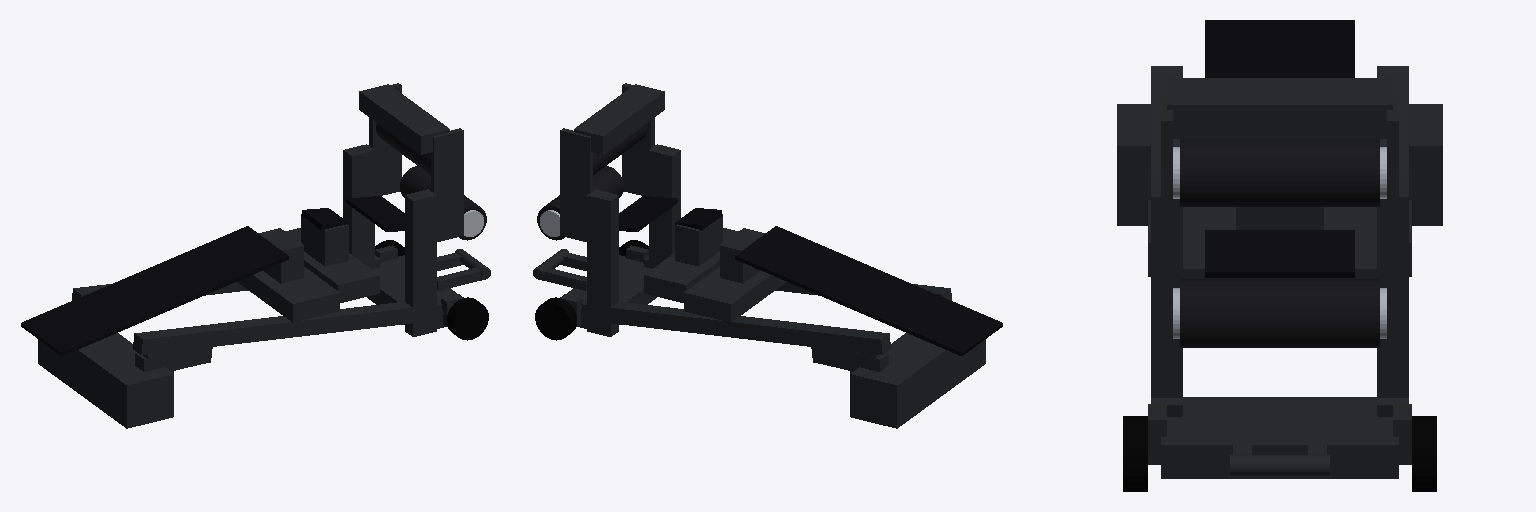
The robot description file, URDF, robot "decline_bench":
<robot name="decline_bench">
  <material name="powder_coat">
    <color rgba="0.18 0.19 0.2 1" />
    </material>
  <material name="upholstery">
    <color rgba="0.1 0.1 0.11 1" />
    </material>
  <material name="backer">
    <color rgba="0.08 0.08 0.09 1" />
    </material>
  <material name="steel">
    <color rgba="0.7 0.72 0.75 1" />
    </material>
  <material name="rubber">
    <color rgba="0.05 0.05 0.05 1" />
    </material>
  <material name="foam">
    <color rgba="0.13 0.13 0.14 1" />
    </material>
  <link name="frame">
    <visual name="rear_foot">
      <origin xyz="-0.56 0 0.07" rpy="0 0 0" />
      <geometry>
        <box size="0.16 0.52 0.14" />
        </geometry>
      <material name="powder_coat">
        <color rgba="0.18 0.19 0.2 1" />
        </material>
      </visual>
    <visual name="rear_riser_0">
      <origin xyz="-0.5 0.18 0.12" rpy="0 0 0" />
      <geometry>
        <box size="0.1 0.05 0.12" />
        </geometry>
      <material name="powder_coat">
        <color rgba="0.18 0.19 0.2 1" />
        </material>
      </visual>
    <visual name="rear_riser_1">
      <origin xyz="-0.5 -0.18 0.12" rpy="0 0 0" />
      <geometry>
        <box size="0.1 0.05 0.12" />
        </geometry>
      <material name="powder_coat">
        <color rgba="0.18 0.19 0.2 1" />
        </material>
      </visual>
    <visual name="rail_0">
      <origin xyz="-0.05 0.18 0.16" rpy="0 0.12 0" />
      <geometry>
        <box size="1.02 0.05 0.05" />
        </geometry>
      <material name="powder_coat">
        <color rgba="0.18 0.19 0.2 1" />
        </material>
      </visual>
    <visual name="rail_1">
      <origin xyz="-0.05 -0.18 0.16" rpy="0 0.12 0" />
      <geometry>
        <box size="1.02 0.05 0.05" />
        </geometry>
      <material name="powder_coat">
        <color rgba="0.18 0.19 0.2 1" />
        </material>
      </visual>
    <visual name="rear_brace_0">
      <origin xyz="-0.43 0.18 0.155" rpy="0 0.12 0" />
      <geometry>
        <box size="0.22 0.05 0.05" />
        </geometry>
      <material name="powder_coat">
        <color rgba="0.18 0.19 0.2 1" />
        </material>
      </visual>
    <visual name="rear_brace_1">
      <origin xyz="-0.43 -0.18 0.155" rpy="0 0.12 0" />
      <geometry>
        <box size="0.22 0.05 0.05" />
        </geometry>
      <material name="powder_coat">
        <color rgba="0.18 0.19 0.2 1" />
        </material>
      </visual>
    <visual name="rear_gusset_0">
      <origin xyz="-0.4 0.18 0.17" rpy="0 0 0" />
      <geometry>
        <box size="0.12 0.05 0.1" />
        </geometry>
      <material name="powder_coat">
        <color rgba="0.18 0.19 0.2 1" />
        </material>
      </visual>
    <visual name="rear_gusset_1">
      <origin xyz="-0.4 -0.18 0.17" rpy="0 0 0" />
      <geometry>
        <box size="0.12 0.05 0.1" />
        </geometry>
      <material name="powder_coat">
        <color rgba="0.18 0.19 0.2 1" />
        </material>
      </visual>
    <visual name="back_bridge">
      <origin xyz="0.03 0 0.215" rpy="0 0 0" />
      <geometry>
        <box size="0.16 0.42 0.06" />
        </geometry>
      <material name="powder_coat">
        <color rgba="0.18 0.19 0.2 1" />
        </material>
      </visual>
    <visual name="back_support">
      <origin xyz="0.03 0 0.29" rpy="0 0 0" />
      <geometry>
        <box size="0.08 0.14 0.12" />
        </geometry>
      <material name="powder_coat">
        <color rgba="0.18 0.19 0.2 1" />
        </material>
      </visual>
    <visual name="seat_bridge">
      <origin xyz="0.18 0 0.235" rpy="0 0 0" />
      <geometry>
        <box size="0.14 0.4 0.06" />
        </geometry>
      <material name="powder_coat">
        <color rgba="0.18 0.19 0.2 1" />
        </material>
      </visual>
    <visual name="seat_support">
      <origin xyz="0.18 0 0.32" rpy="0 0 0" />
      <geometry>
        <box size="0.08 0.14 0.12" />
        </geometry>
      <material name="powder_coat">
        <color rgba="0.18 0.19 0.2 1" />
        </material>
      </visual>
    <visual name="front_base">
      <origin xyz="0.47 0 0.07" rpy="0 0 0" />
      <geometry>
        <box size="0.18 0.38 0.06" />
        </geometry>
      <material name="powder_coat">
        <color rgba="0.18 0.19 0.2 1" />
        </material>
      </visual>
    <visual name="upright_0">
      <origin xyz="0.4 0.18 0.26" rpy="0 0 0" />
      <geometry>
        <box size="0.08 0.05 0.44" />
        </geometry>
      <material name="powder_coat">
        <color rgba="0.18 0.19 0.2 1" />
        </material>
      </visual>
    <visual name="upright_1">
      <origin xyz="0.4 -0.18 0.26" rpy="0 0 0" />
      <geometry>
        <box size="0.08 0.05 0.44" />
        </geometry>
      <material name="powder_coat">
        <color rgba="0.18 0.19 0.2 1" />
        </material>
      </visual>
    <visual name="roller_yoke">
      <origin xyz="0.45 0 0.64" rpy="0 0 0" />
      <geometry>
        <box size="0.1 0.36 0.06" />
        </geometry>
      <material name="powder_coat">
        <color rgba="0.18 0.19 0.2 1" />
        </material>
      </visual>
    <visual name="roller_cheek_0">
      <origin xyz="0.49 0.18 0.49" rpy="0 0 0" />
      <geometry>
        <box size="0.1 0.02 0.34" />
        </geometry>
      <material name="powder_coat">
        <color rgba="0.18 0.19 0.2 1" />
        </material>
      </visual>
    <visual name="roller_cheek_1">
      <origin xyz="0.49 -0.18 0.49" rpy="0 0 0" />
      <geometry>
        <box size="0.1 0.02 0.34" />
        </geometry>
      <material name="powder_coat">
        <color rgba="0.18 0.19 0.2 1" />
        </material>
      </visual>
    <visual name="handle_stem_0">
      <origin xyz="0.6 0.06 0.115" rpy="0 0 0" />
      <geometry>
        <box size="0.16 0.03 0.03" />
        </geometry>
      <material name="powder_coat">
        <color rgba="0.18 0.19 0.2 1" />
        </material>
      </visual>
    <visual name="handle_stem_1">
      <origin xyz="0.6 -0.06 0.115" rpy="0 0 0" />
      <geometry>
        <box size="0.16 0.03 0.03" />
        </geometry>
      <material name="powder_coat">
        <color rgba="0.18 0.19 0.2 1" />
        </material>
      </visual>
    <visual name="handle_grip">
      <origin xyz="0.68 0 0.12" rpy="1.5708 0 0" />
      <geometry>
        <cylinder radius="0.017" length="0.16" />
        </geometry>
      <material name="powder_coat">
        <color rgba="0.18 0.19 0.2 1" />
        </material>
      </visual>
    <visual name="wheel_bracket_0">
      <origin xyz="0.5 0.195 0.09" rpy="0 0 0" />
      <geometry>
        <box size="0.06 0.03 0.08" />
        </geometry>
      <material name="powder_coat">
        <color rgba="0.18 0.19 0.2 1" />
        </material>
      </visual>
    <visual name="wheel_bracket_1">
      <origin xyz="0.5 -0.195 0.09" rpy="0 0 0" />
      <geometry>
        <box size="0.06 0.03 0.08" />
        </geometry>
      <material name="powder_coat">
        <color rgba="0.18 0.19 0.2 1" />
        </material>
      </visual>
    <collision name="rear_foot">
      <origin xyz="-0.56 0 0.07" rpy="0 0 0" />
      <geometry>
        <box size="0.16 0.52 0.14" />
        </geometry>
      </collision>
    <collision name="rear_riser_0">
      <origin xyz="-0.5 0.18 0.12" rpy="0 0 0" />
      <geometry>
        <box size="0.1 0.05 0.12" />
        </geometry>
      </collision>
    <collision name="rear_riser_1">
      <origin xyz="-0.5 -0.18 0.12" rpy="0 0 0" />
      <geometry>
        <box size="0.1 0.05 0.12" />
        </geometry>
      </collision>
    <collision name="rail_0">
      <origin xyz="-0.05 0.18 0.16" rpy="0 0.12 0" />
      <geometry>
        <box size="1.02 0.05 0.05" />
        </geometry>
      </collision>
    <collision name="rail_1">
      <origin xyz="-0.05 -0.18 0.16" rpy="0 0.12 0" />
      <geometry>
        <box size="1.02 0.05 0.05" />
        </geometry>
      </collision>
    <collision name="rear_brace_0">
      <origin xyz="-0.43 0.18 0.155" rpy="0 0.12 0" />
      <geometry>
        <box size="0.22 0.05 0.05" />
        </geometry>
      </collision>
    <collision name="rear_brace_1">
      <origin xyz="-0.43 -0.18 0.155" rpy="0 0.12 0" />
      <geometry>
        <box size="0.22 0.05 0.05" />
        </geometry>
      </collision>
    <collision name="rear_gusset_0">
      <origin xyz="-0.4 0.18 0.17" rpy="0 0 0" />
      <geometry>
        <box size="0.12 0.05 0.1" />
        </geometry>
      </collision>
    <collision name="rear_gusset_1">
      <origin xyz="-0.4 -0.18 0.17" rpy="0 0 0" />
      <geometry>
        <box size="0.12 0.05 0.1" />
        </geometry>
      </collision>
    <collision name="back_bridge">
      <origin xyz="0.03 0 0.215" rpy="0 0 0" />
      <geometry>
        <box size="0.16 0.42 0.06" />
        </geometry>
      </collision>
    <collision name="back_support">
      <origin xyz="0.03 0 0.29" rpy="0 0 0" />
      <geometry>
        <box size="0.08 0.14 0.12" />
        </geometry>
      </collision>
    <collision name="seat_bridge">
      <origin xyz="0.18 0 0.235" rpy="0 0 0" />
      <geometry>
        <box size="0.14 0.4 0.06" />
        </geometry>
      </collision>
    <collision name="seat_support">
      <origin xyz="0.18 0 0.32" rpy="0 0 0" />
      <geometry>
        <box size="0.08 0.14 0.12" />
        </geometry>
      </collision>
    <collision name="front_base">
      <origin xyz="0.47 0 0.07" rpy="0 0 0" />
      <geometry>
        <box size="0.18 0.38 0.06" />
        </geometry>
      </collision>
    <collision name="upright_0">
      <origin xyz="0.4 0.18 0.26" rpy="0 0 0" />
      <geometry>
        <box size="0.08 0.05 0.44" />
        </geometry>
      </collision>
    <collision name="upright_1">
      <origin xyz="0.4 -0.18 0.26" rpy="0 0 0" />
      <geometry>
        <box size="0.08 0.05 0.44" />
        </geometry>
      </collision>
    <collision name="roller_yoke">
      <origin xyz="0.45 0 0.64" rpy="0 0 0" />
      <geometry>
        <box size="0.1 0.36 0.06" />
        </geometry>
      </collision>
    <collision name="roller_cheek_0">
      <origin xyz="0.49 0.18 0.49" rpy="0 0 0" />
      <geometry>
        <box size="0.1 0.02 0.34" />
        </geometry>
      </collision>
    <collision name="roller_cheek_1">
      <origin xyz="0.49 -0.18 0.49" rpy="0 0 0" />
      <geometry>
        <box size="0.1 0.02 0.34" />
        </geometry>
      </collision>
    <collision name="handle_stem_0">
      <origin xyz="0.6 0.06 0.115" rpy="0 0 0" />
      <geometry>
        <box size="0.16 0.03 0.03" />
        </geometry>
      </collision>
    <collision name="handle_stem_1">
      <origin xyz="0.6 -0.06 0.115" rpy="0 0 0" />
      <geometry>
        <box size="0.16 0.03 0.03" />
        </geometry>
      </collision>
    <collision name="handle_grip">
      <origin xyz="0.68 0 0.12" rpy="1.5708 0 0" />
      <geometry>
        <cylinder radius="0.017" length="0.16" />
        </geometry>
      </collision>
    <collision name="wheel_bracket_0">
      <origin xyz="0.5 0.195 0.09" rpy="0 0 0" />
      <geometry>
        <box size="0.06 0.03 0.08" />
        </geometry>
      </collision>
    <collision name="wheel_bracket_1">
      <origin xyz="0.5 -0.195 0.09" rpy="0 0 0" />
      <geometry>
        <box size="0.06 0.03 0.08" />
        </geometry>
      </collision>
    </link>
  <link name="back_pad">
    <visual name="pad_shell">
      <geometry>
        <mesh filename="assets/meshes/back_pad_shell.obj" />
        </geometry>
      <material name="upholstery">
        <color rgba="0.1 0.1 0.11 1" />
        </material>
      </visual>
    <visual name="backer_plate">
      <origin xyz="-0.43 0 0.0075" rpy="0 0 0" />
      <geometry>
        <box size="0.78 0.24 0.012" />
        </geometry>
      <material name="backer">
        <color rgba="0.08 0.08 0.09 1" />
        </material>
      </visual>
    <visual name="mount_block">
      <origin xyz="-0.08 0 -0.006" rpy="0 0 0" />
      <geometry>
        <box size="0.08 0.12 0.018" />
        </geometry>
      <material name="backer">
        <color rgba="0.08 0.08 0.09 1" />
        </material>
      </visual>
    <collision name="pad_shell">
      <geometry>
        <mesh filename="assets/meshes/back_pad_shell.obj" />
        </geometry>
      </collision>
    <collision name="backer_plate">
      <origin xyz="-0.43 0 0.0075" rpy="0 0 0" />
      <geometry>
        <box size="0.78 0.24 0.012" />
        </geometry>
      </collision>
    <collision name="mount_block">
      <origin xyz="-0.08 0 -0.006" rpy="0 0 0" />
      <geometry>
        <box size="0.08 0.12 0.018" />
        </geometry>
      </collision>
    </link>
  <link name="seat">
    <visual name="pad_shell">
      <geometry>
        <mesh filename="assets/meshes/seat_pad_shell.obj" />
        </geometry>
      <material name="upholstery">
        <color rgba="0.1 0.1 0.11 1" />
        </material>
      </visual>
    <visual name="backer_plate">
      <origin xyz="0.2 0 0.0075" rpy="0 0 0" />
      <geometry>
        <box size="0.12 0.24 0.012" />
        </geometry>
      <material name="backer">
        <color rgba="0.08 0.08 0.09 1" />
        </material>
      </visual>
    <visual name="mount_block">
      <origin xyz="0 0 0.006" rpy="0 0 0" />
      <geometry>
        <box size="0.09 0.12 0.018" />
        </geometry>
      <material name="backer">
        <color rgba="0.08 0.08 0.09 1" />
        </material>
      </visual>
    <collision name="pad_shell">
      <geometry>
        <mesh filename="assets/meshes/seat_pad_shell.obj" />
        </geometry>
      </collision>
    <collision name="backer_plate">
      <origin xyz="0.2 0 0.0075" rpy="0 0 0" />
      <geometry>
        <box size="0.12 0.24 0.012" />
        </geometry>
      </collision>
    <collision name="mount_block">
      <origin xyz="0 0 0.006" rpy="0 0 0" />
      <geometry>
        <box size="0.09 0.12 0.018" />
        </geometry>
      </collision>
    </link>
  <link name="leg_roller_0">
    <visual name="foam">
      <origin xyz="0 0 0" rpy="1.5708 0 0" />
      <geometry>
        <cylinder radius="0.055" length="0.32" />
        </geometry>
      <material name="foam">
        <color rgba="0.13 0.13 0.14 1" />
        </material>
      </visual>
    <visual name="end_cap_0">
      <origin xyz="0 0.165 0" rpy="1.5708 0 0" />
      <geometry>
        <cylinder radius="0.041" length="0.01" />
        </geometry>
      <material name="steel">
        <color rgba="0.7 0.72 0.75 1" />
        </material>
      </visual>
    <visual name="end_cap_1">
      <origin xyz="0 -0.165 0" rpy="1.5708 0 0" />
      <geometry>
        <cylinder radius="0.041" length="0.01" />
        </geometry>
      <material name="steel">
        <color rgba="0.7 0.72 0.75 1" />
        </material>
      </visual>
    <collision name="foam">
      <origin xyz="0 0 0" rpy="1.5708 0 0" />
      <geometry>
        <cylinder radius="0.055" length="0.32" />
        </geometry>
      </collision>
    <collision name="end_cap_0">
      <origin xyz="0 0.165 0" rpy="1.5708 0 0" />
      <geometry>
        <cylinder radius="0.041" length="0.01" />
        </geometry>
      </collision>
    <collision name="end_cap_1">
      <origin xyz="0 -0.165 0" rpy="1.5708 0 0" />
      <geometry>
        <cylinder radius="0.041" length="0.01" />
        </geometry>
      </collision>
    </link>
  <link name="leg_roller_1">
    <visual name="foam">
      <origin xyz="0 0 0" rpy="1.5708 0 0" />
      <geometry>
        <cylinder radius="0.055" length="0.32" />
        </geometry>
      <material name="foam">
        <color rgba="0.13 0.13 0.14 1" />
        </material>
      </visual>
    <visual name="end_cap_0">
      <origin xyz="0 0.165 0" rpy="1.5708 0 0" />
      <geometry>
        <cylinder radius="0.041" length="0.01" />
        </geometry>
      <material name="steel">
        <color rgba="0.7 0.72 0.75 1" />
        </material>
      </visual>
    <visual name="end_cap_1">
      <origin xyz="0 -0.165 0" rpy="1.5708 0 0" />
      <geometry>
        <cylinder radius="0.041" length="0.01" />
        </geometry>
      <material name="steel">
        <color rgba="0.7 0.72 0.75 1" />
        </material>
      </visual>
    <collision name="foam">
      <origin xyz="0 0 0" rpy="1.5708 0 0" />
      <geometry>
        <cylinder radius="0.055" length="0.32" />
        </geometry>
      </collision>
    <collision name="end_cap_0">
      <origin xyz="0 0.165 0" rpy="1.5708 0 0" />
      <geometry>
        <cylinder radius="0.041" length="0.01" />
        </geometry>
      </collision>
    <collision name="end_cap_1">
      <origin xyz="0 -0.165 0" rpy="1.5708 0 0" />
      <geometry>
        <cylinder radius="0.041" length="0.01" />
        </geometry>
      </collision>
    </link>
  <link name="front_wheel_0">
    <visual name="tire">
      <origin xyz="0 0 0" rpy="1.5708 0 0" />
      <geometry>
        <cylinder radius="0.06" length="0.04" />
        </geometry>
      <material name="rubber">
        <color rgba="0.05 0.05 0.05 1" />
        </material>
      </visual>
    <visual name="hub">
      <origin xyz="0 0 0" rpy="1.5708 0 0" />
      <geometry>
        <cylinder radius="0.038" length="0.024" />
        </geometry>
      <material name="steel">
        <color rgba="0.7 0.72 0.75 1" />
        </material>
      </visual>
    <visual name="hub_cap_0">
      <origin xyz="0 0.009 0" rpy="1.5708 0 0" />
      <geometry>
        <cylinder radius="0.047" length="0.006" />
        </geometry>
      <material name="steel">
        <color rgba="0.7 0.72 0.75 1" />
        </material>
      </visual>
    <visual name="hub_cap_1">
      <origin xyz="0 -0.009 0" rpy="1.5708 0 0" />
      <geometry>
        <cylinder radius="0.047" length="0.006" />
        </geometry>
      <material name="steel">
        <color rgba="0.7 0.72 0.75 1" />
        </material>
      </visual>
    <collision name="tire">
      <origin xyz="0 0 0" rpy="1.5708 0 0" />
      <geometry>
        <cylinder radius="0.06" length="0.04" />
        </geometry>
      </collision>
    <collision name="hub">
      <origin xyz="0 0 0" rpy="1.5708 0 0" />
      <geometry>
        <cylinder radius="0.038" length="0.024" />
        </geometry>
      </collision>
    <collision name="hub_cap_0">
      <origin xyz="0 0.009 0" rpy="1.5708 0 0" />
      <geometry>
        <cylinder radius="0.047" length="0.006" />
        </geometry>
      </collision>
    <collision name="hub_cap_1">
      <origin xyz="0 -0.009 0" rpy="1.5708 0 0" />
      <geometry>
        <cylinder radius="0.047" length="0.006" />
        </geometry>
      </collision>
    </link>
  <link name="front_wheel_1">
    <visual name="tire">
      <origin xyz="0 0 0" rpy="1.5708 0 0" />
      <geometry>
        <cylinder radius="0.06" length="0.04" />
        </geometry>
      <material name="rubber">
        <color rgba="0.05 0.05 0.05 1" />
        </material>
      </visual>
    <visual name="hub">
      <origin xyz="0 0 0" rpy="1.5708 0 0" />
      <geometry>
        <cylinder radius="0.038" length="0.024" />
        </geometry>
      <material name="steel">
        <color rgba="0.7 0.72 0.75 1" />
        </material>
      </visual>
    <visual name="hub_cap_0">
      <origin xyz="0 0.009 0" rpy="1.5708 0 0" />
      <geometry>
        <cylinder radius="0.047" length="0.006" />
        </geometry>
      <material name="steel">
        <color rgba="0.7 0.72 0.75 1" />
        </material>
      </visual>
    <visual name="hub_cap_1">
      <origin xyz="0 -0.009 0" rpy="1.5708 0 0" />
      <geometry>
        <cylinder radius="0.047" length="0.006" />
        </geometry>
      <material name="steel">
        <color rgba="0.7 0.72 0.75 1" />
        </material>
      </visual>
    <collision name="tire">
      <origin xyz="0 0 0" rpy="1.5708 0 0" />
      <geometry>
        <cylinder radius="0.06" length="0.04" />
        </geometry>
      </collision>
    <collision name="hub">
      <origin xyz="0 0 0" rpy="1.5708 0 0" />
      <geometry>
        <cylinder radius="0.038" length="0.024" />
        </geometry>
      </collision>
    <collision name="hub_cap_0">
      <origin xyz="0 0.009 0" rpy="1.5708 0 0" />
      <geometry>
        <cylinder radius="0.047" length="0.006" />
        </geometry>
      </collision>
    <collision name="hub_cap_1">
      <origin xyz="0 -0.009 0" rpy="1.5708 0 0" />
      <geometry>
        <cylinder radius="0.047" length="0.006" />
        </geometry>
      </collision>
    </link>
  <joint name="frame_to_back_pad" type="revolute">
    <origin xyz="0.03 0 0.35" rpy="0 -0.174533 0" />
    <parent link="frame" />
    <child link="back_pad" />
    <axis xyz="0 1 0" />
    <limit effort="40" velocity="1" lower="-0.25" upper="0.85" />
    </joint>
  <joint name="frame_to_seat" type="revolute">
    <origin xyz="0.18 0 0.375" rpy="0 0.15708 0" />
    <parent link="frame" />
    <child link="seat" />
    <axis xyz="0 -1 0" />
    <limit effort="25" velocity="1" lower="-0.2" upper="0.45" />
    </joint>
  <joint name="frame_to_leg_roller_0" type="continuous">
    <origin xyz="0.5 0 0.55" rpy="0 0 0" />
    <parent link="frame" />
    <child link="leg_roller_0" />
    <axis xyz="0 1 0" />
    <limit effort="6" velocity="12" />
    </joint>
  <joint name="frame_to_leg_roller_1" type="continuous">
    <origin xyz="0.58 0 0.34" rpy="0 0 0" />
    <parent link="frame" />
    <child link="leg_roller_1" />
    <axis xyz="0 1 0" />
    <limit effort="6" velocity="12" />
    </joint>
  <joint name="frame_to_front_wheel_0" type="continuous">
    <origin xyz="0.53 0.23 0.07" rpy="0 0 0" />
    <parent link="frame" />
    <child link="front_wheel_0" />
    <axis xyz="0 1 0" />
    <limit effort="12" velocity="20" />
    </joint>
  <joint name="frame_to_front_wheel_1" type="continuous">
    <origin xyz="0.53 -0.23 0.07" rpy="0 0 0" />
    <parent link="frame" />
    <child link="front_wheel_1" />
    <axis xyz="0 1 0" />
    <limit effort="12" velocity="20" />
    </joint>
  </robot>

--- Facts derived from the render (not from the file) ---
3 views of the same robot in one strip: view 1: azimuth 30°, elevation 25°; view 2: azimuth 150°, elevation 25°; view 3: azimuth 270°, elevation 25° (orthographic).
Model decline_bench with 7 links and 6 joints (2 revolute, 4 continuous), rooted at frame, posed every joint at zero.
Links seen in each view (by area): view 1: frame, back_pad, seat, leg_roller_1, front_wheel_1, leg_roller_0; view 2: frame, back_pad, seat, leg_roller_1, front_wheel_0, leg_roller_0; view 3: frame, leg_roller_1, leg_roller_0, back_pad, seat, front_wheel_0, front_wheel_1.
Link boxes in pixels (box(x1,y1,x2,y2)): frame: box(38, 83, 490, 428); back_pad: box(21, 226, 288, 355); seat: box(301, 196, 404, 231); leg_roller_1: box(400, 166, 486, 240); front_wheel_1: box(447, 297, 488, 340); leg_roller_0: box(376, 123, 430, 174); frame: box(533, 83, 985, 428); back_pad: box(735, 226, 1002, 355); seat: box(619, 196, 722, 231); leg_roller_1: box(537, 166, 623, 240); front_wheel_0: box(535, 297, 576, 340); leg_roller_0: box(593, 123, 647, 174); frame: box(1117, 66, 1442, 478); leg_roller_1: box(1173, 279, 1386, 347); leg_roller_0: box(1173, 139, 1386, 206); back_pad: box(1205, 20, 1354, 77); seat: box(1205, 230, 1354, 277); front_wheel_0: box(1412, 416, 1436, 491); front_wheel_1: box(1123, 416, 1147, 491).
Bounding box of the posed robot: 1.48 × 0.52 × 0.67 m (x, y, z).
0 mesh visuals loaded from 2 distinct referenced files (none loaded); not drawn: 2 (reference not matched to a file when rendering).
